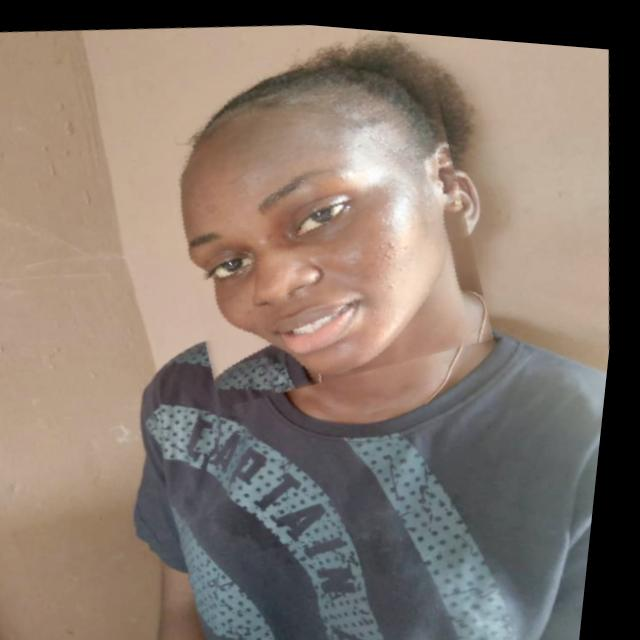happy: (141, 32, 512, 411)
